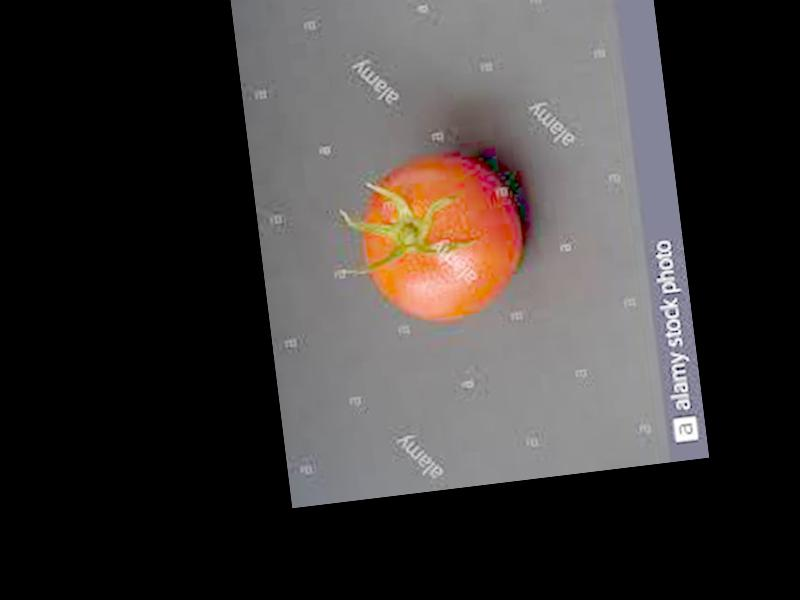Tomato: (352, 146, 524, 330)
